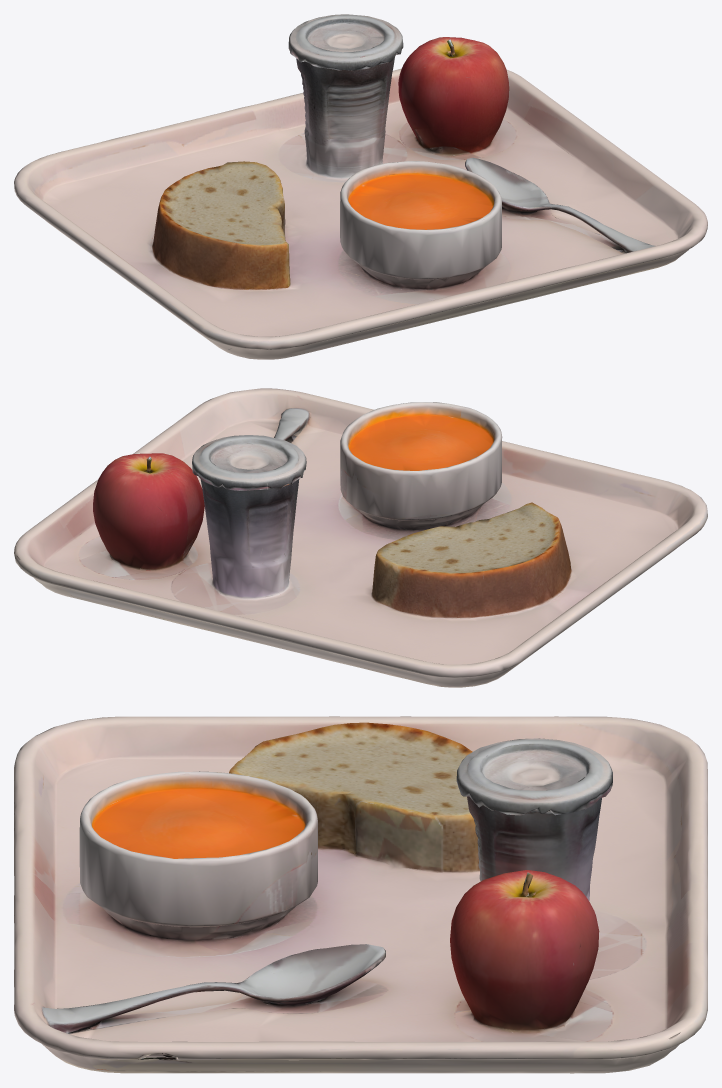
The model's file is tepsi.fbx.
The picture shows the model from 3 angles, top to bottom: view 1: azimuth 30°, elevation 25°; view 2: azimuth 150°, elevation 25°; view 3: azimuth 270°, elevation 25°; orthographic projection. The views are drawn at different scales.
Parts seen in each view (by area): view 1: Mesh_0; view 2: Mesh_0; view 3: Mesh_0.
Boxes of the visible parts, x1,y1,x2,y2 form: Mesh_0: (14,14,707,359); Mesh_0: (14,388,707,687); Mesh_0: (14,716,707,1073).
Size of the model in its own units: 191 by 49.77 by 168.
Materials: 1 (1 with a texture image).
